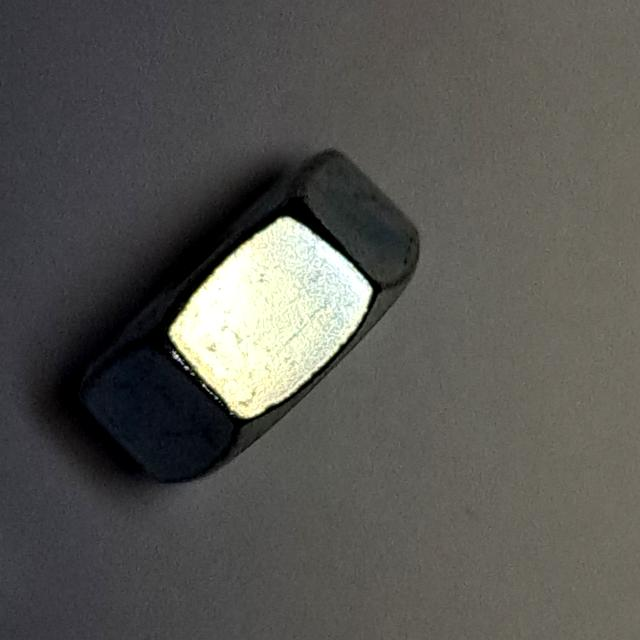Side_Excellent: (53, 137, 439, 496)
